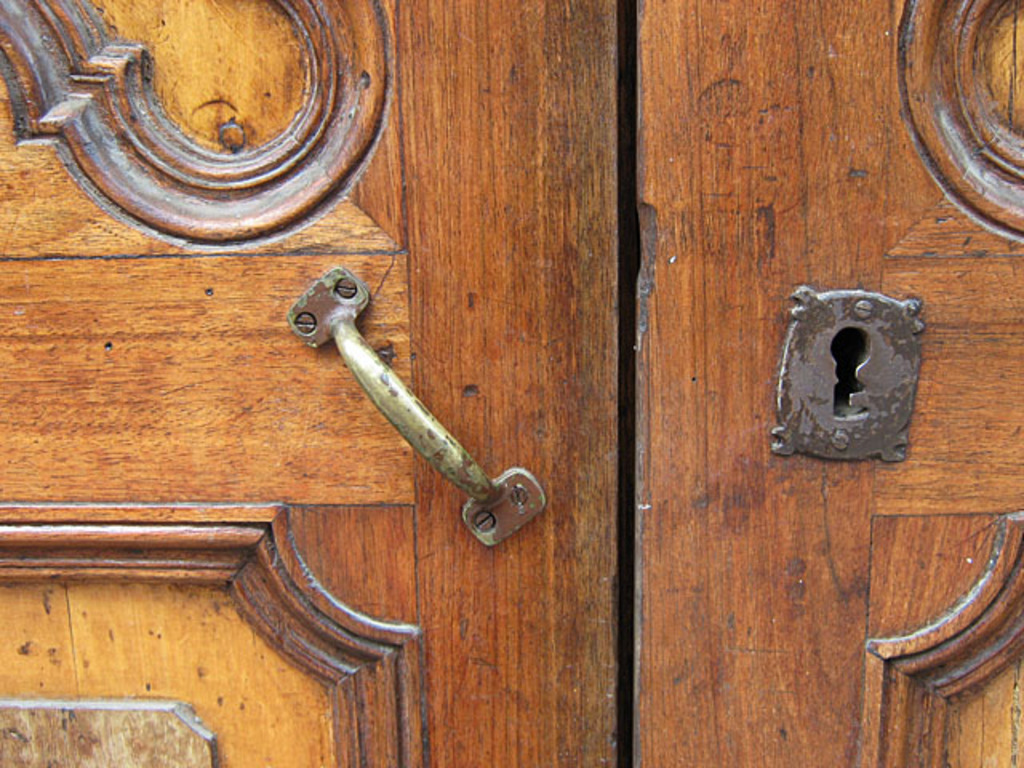door: (18, 13, 618, 767), (628, 44, 1024, 768)
handle: (276, 293, 557, 543)
